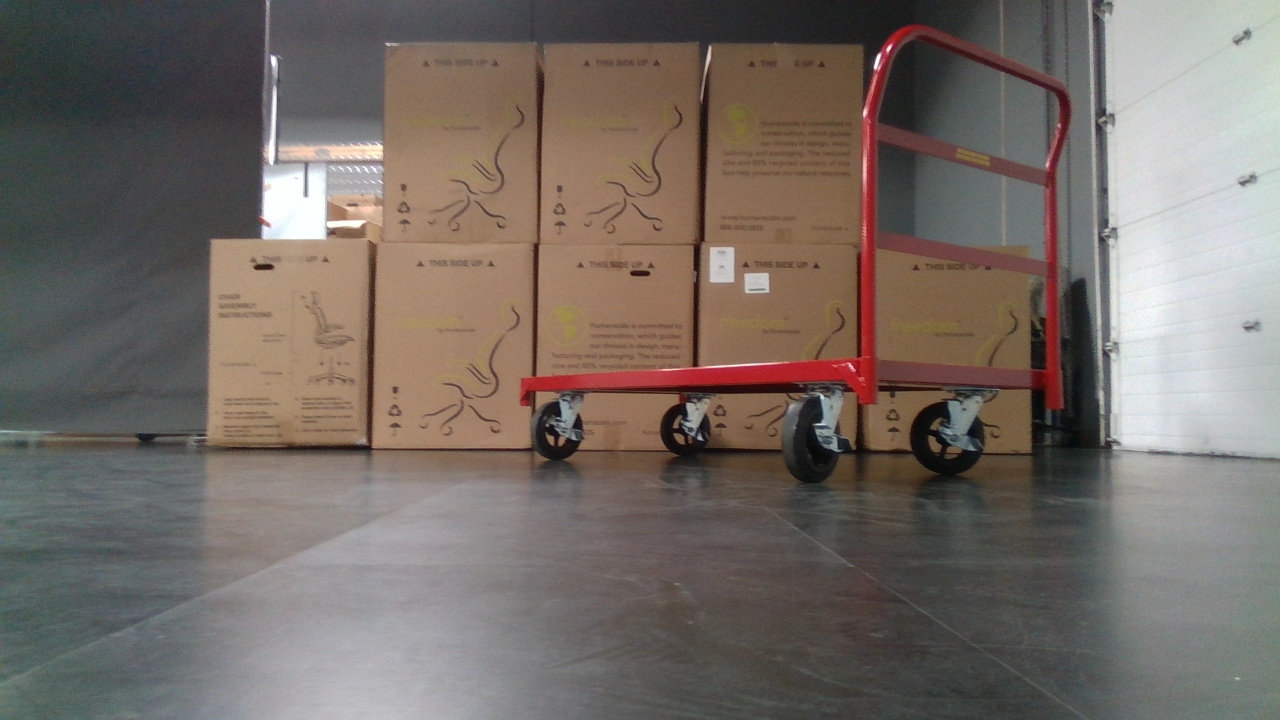Dolly: (516, 26, 1074, 483)
Wheel: (908, 399, 988, 474), (781, 397, 838, 481), (533, 401, 585, 459), (662, 403, 711, 455)
